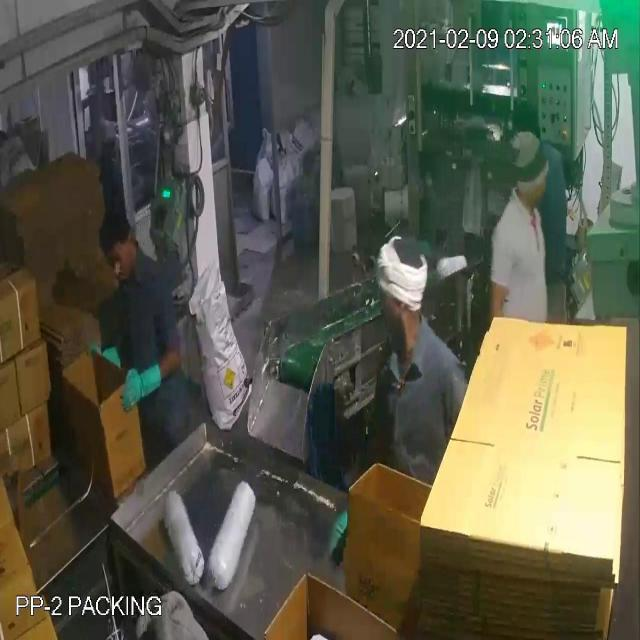Gloves: (49, 56, 143, 387)
